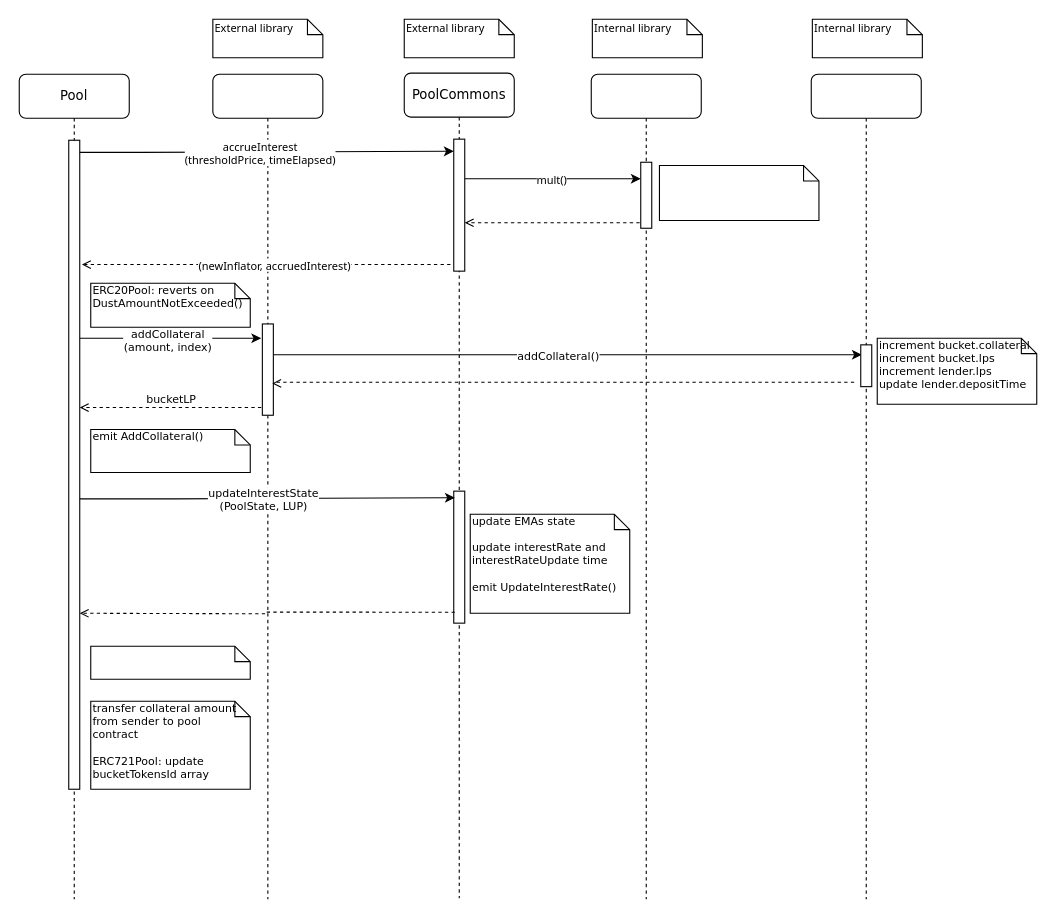
The diagram is 1056 pixels wide and 919 high, and some of its shapes have lost their labels. The box of each missing label's shape, as (x1, y1, x2, y2) in pixels:
Buckets: (810, 73, 921, 899)
Deposits: (590, 73, 701, 899)
LenderActions: (212, 73, 323, 899)
Scale Fenwick Tree with the new interest accrued update scaling array state: (658, 164, 819, 221)
update inflator update inflatorUpdate time: (90, 645, 250, 679)
